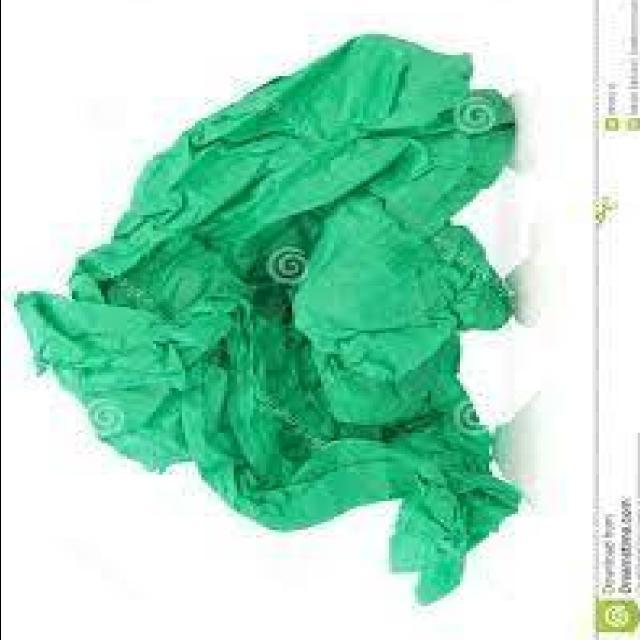kertas: (13, 34, 520, 611)
